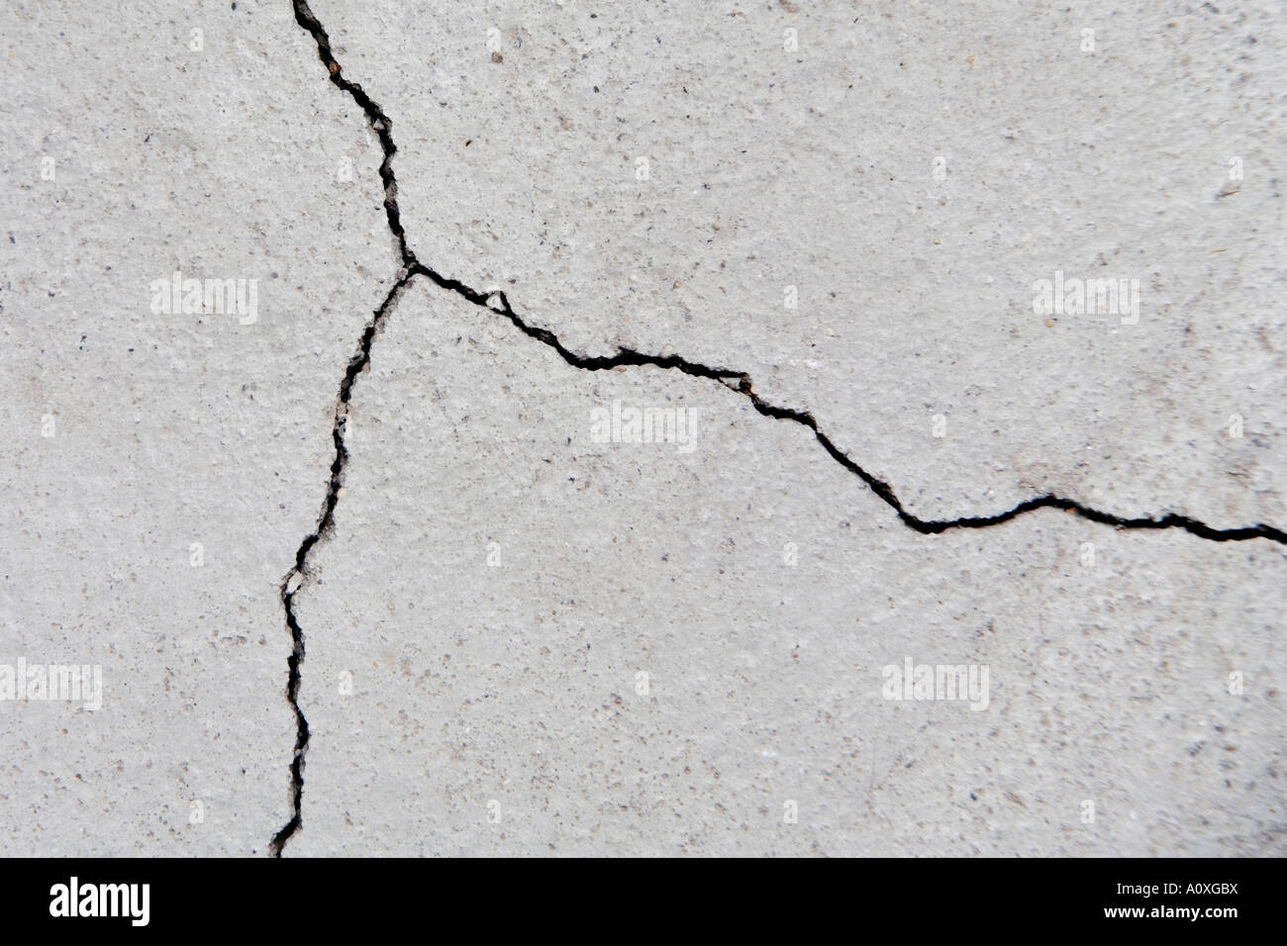crack: (295, 0, 1286, 547), (263, 0, 421, 858)
